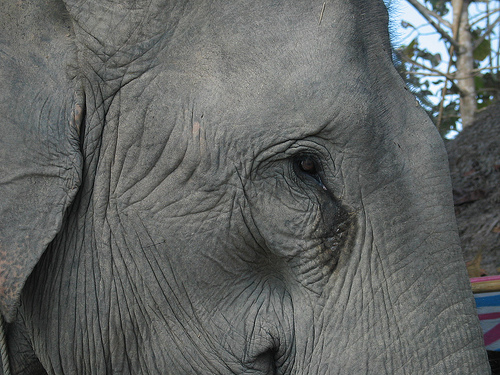elephant: (1, 1, 491, 375)
